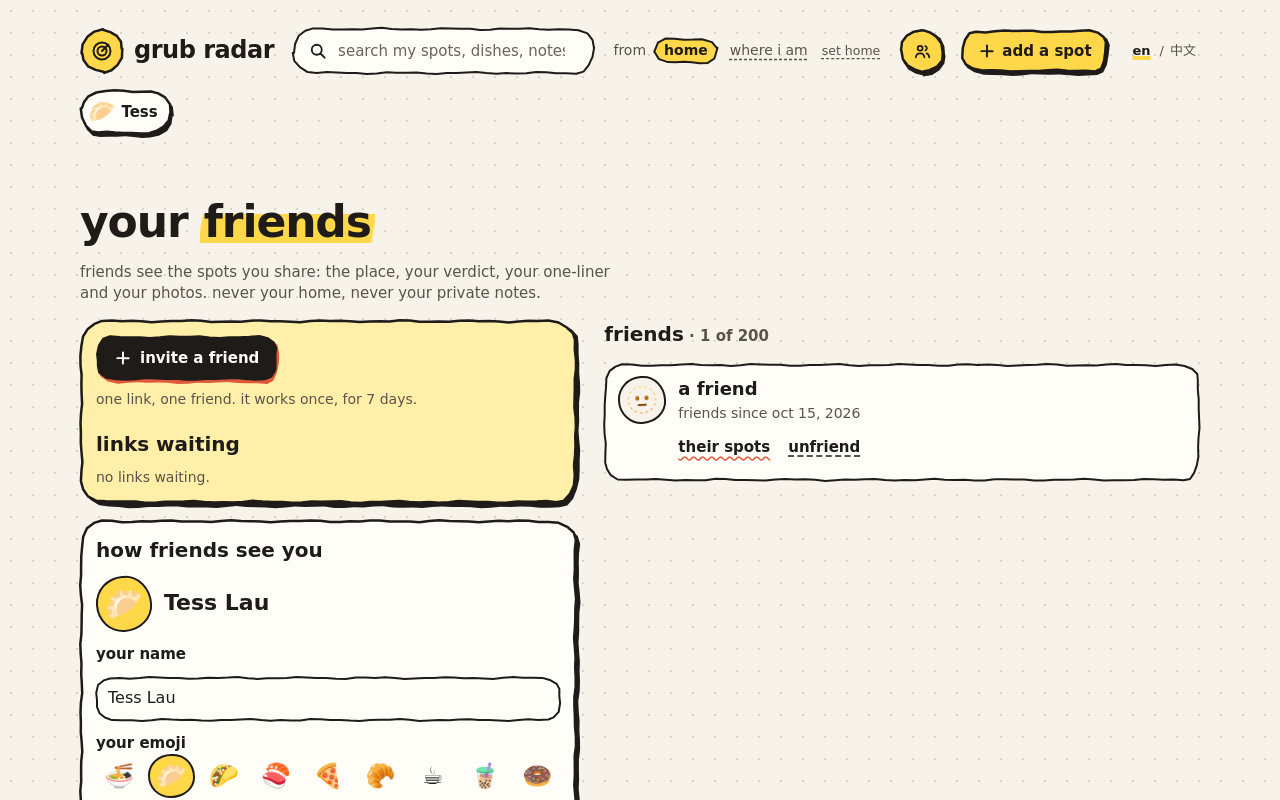
Test case: a friend who hasn’t chosen a name yet: "a friend", never "you" › the friends list, its links and the unfriend question
expect the link with aria-label "See a friend’s spots" is shown: met, box [678,438,770,456]
Click the button "unfriend" at point(824, 447), box [784,431,864,463]
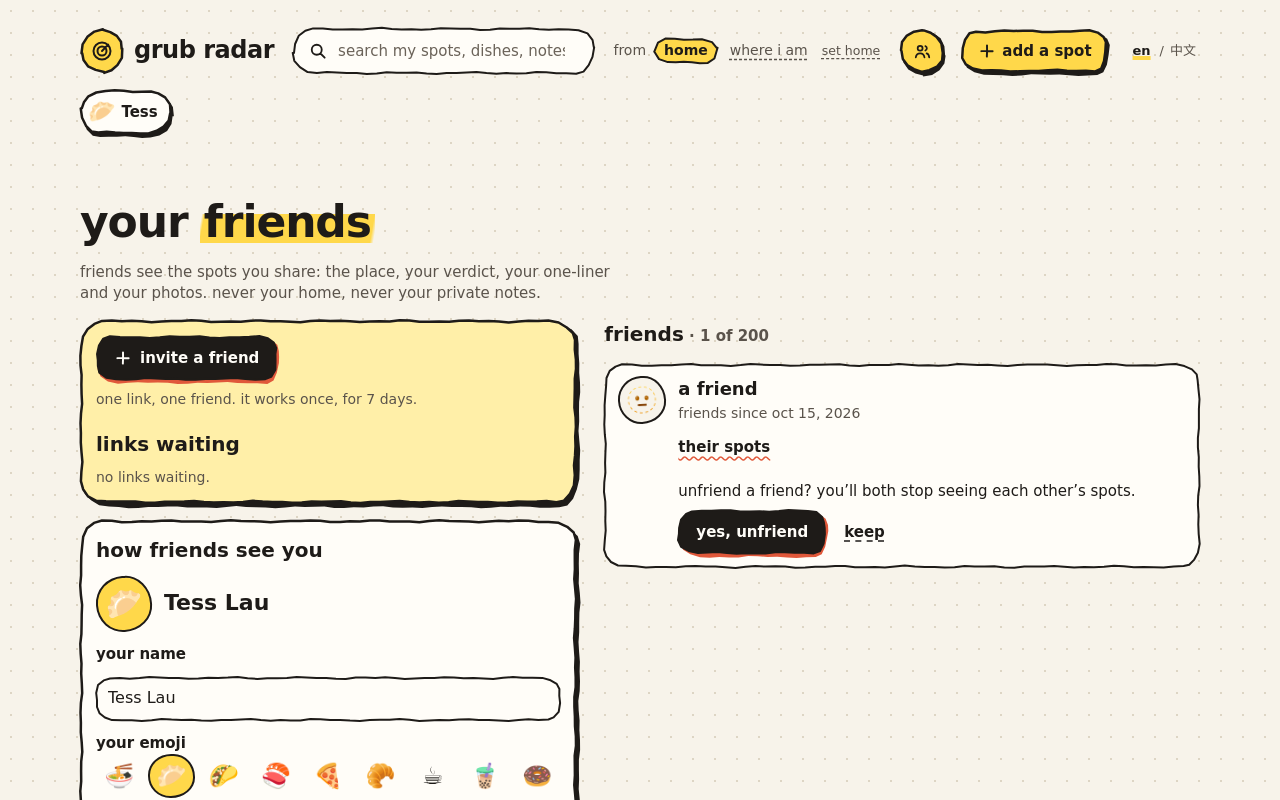
expect the text "unfriend a friend?" is shown: met, box [678,482,1136,500]
